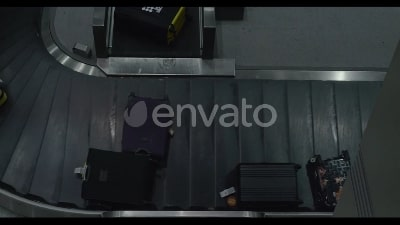baggage: (71, 147, 162, 212), (117, 95, 179, 163), (222, 160, 305, 210), (305, 153, 356, 207)
